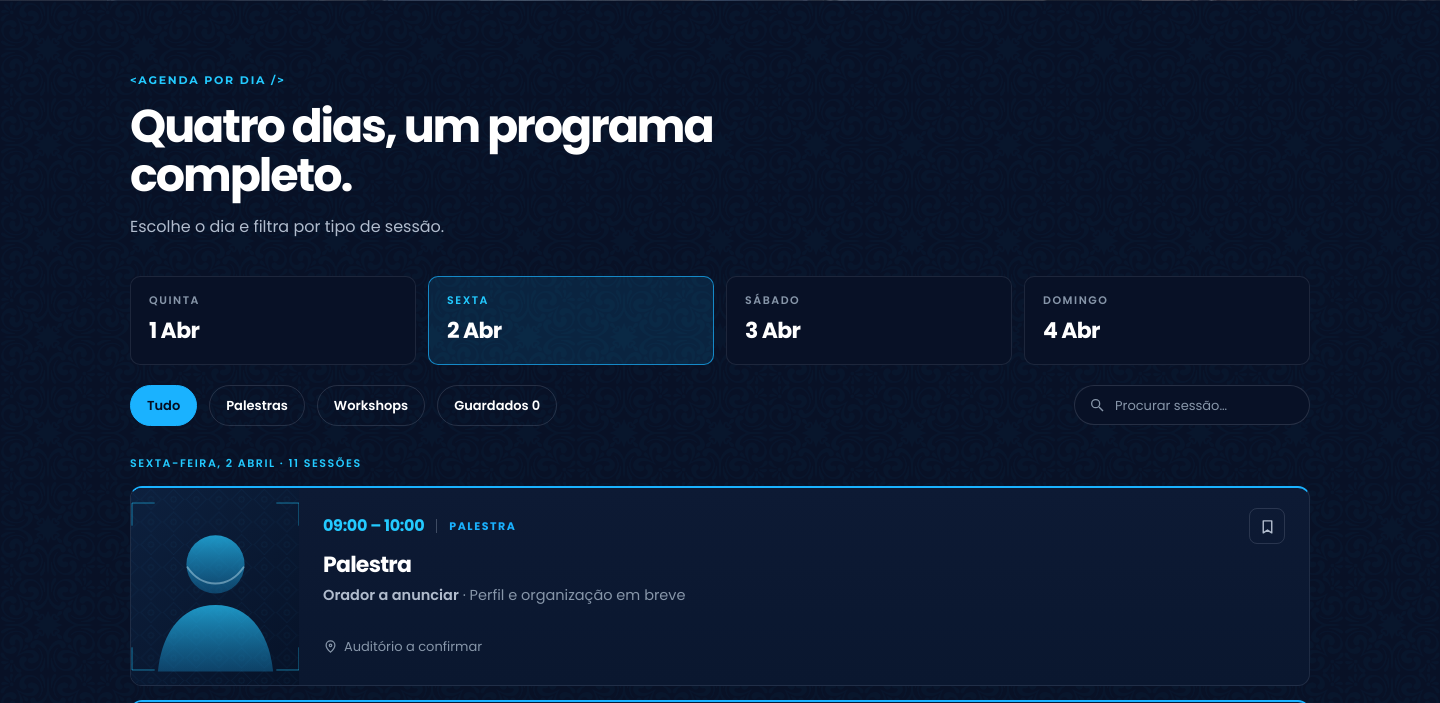
Test: Agenda: filtros e pesquisa › a linha de resultados usa o singular com uma sessão e o plural nas outras
(page scrolled)
Type "almoco" into the search field at point(1205, 405), box top-left (1115, 395), bottom-right (1295, 416)
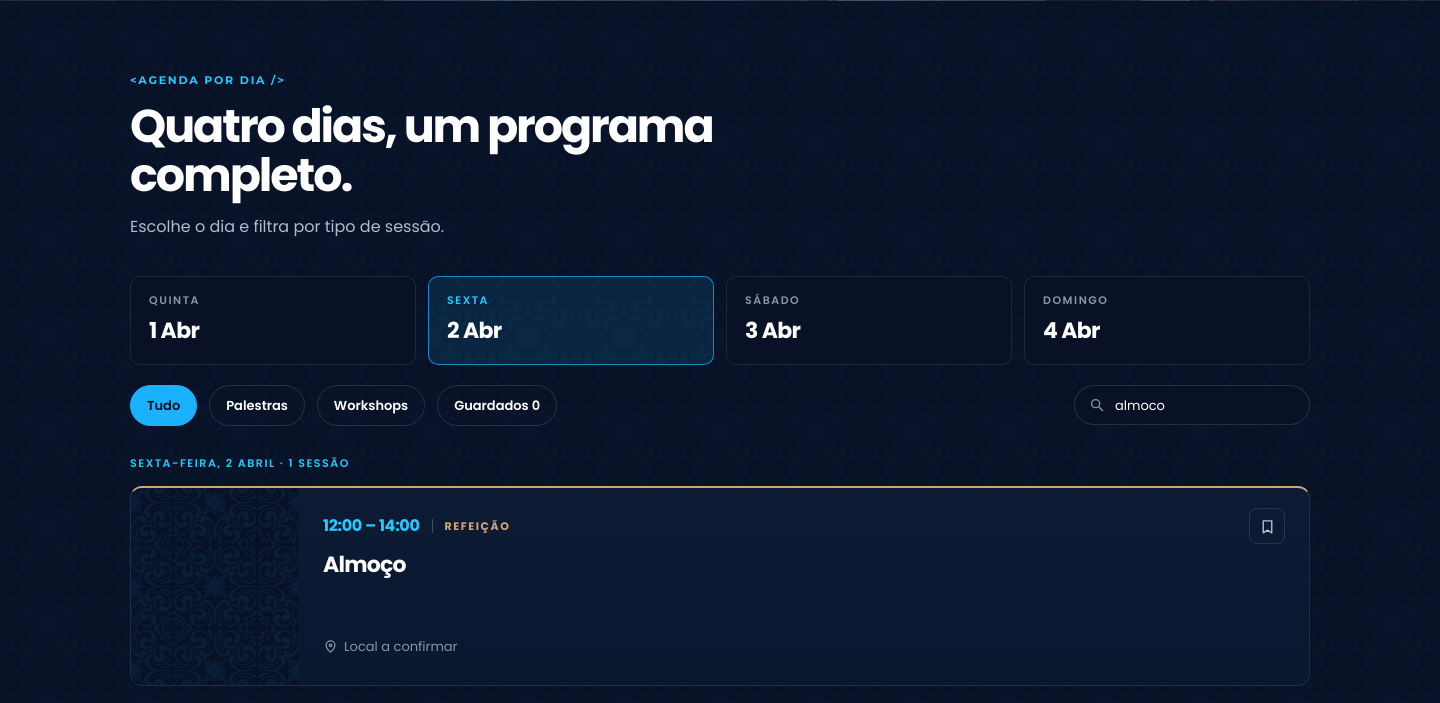
Now the text "Sexta-feira, 2 abril · 1 sessão" is shown, box top-left (130, 455), bottom-right (350, 471)
Replace the text in the search field with "zzz" at point(1205, 405), box top-left (1115, 395), bottom-right (1295, 416)
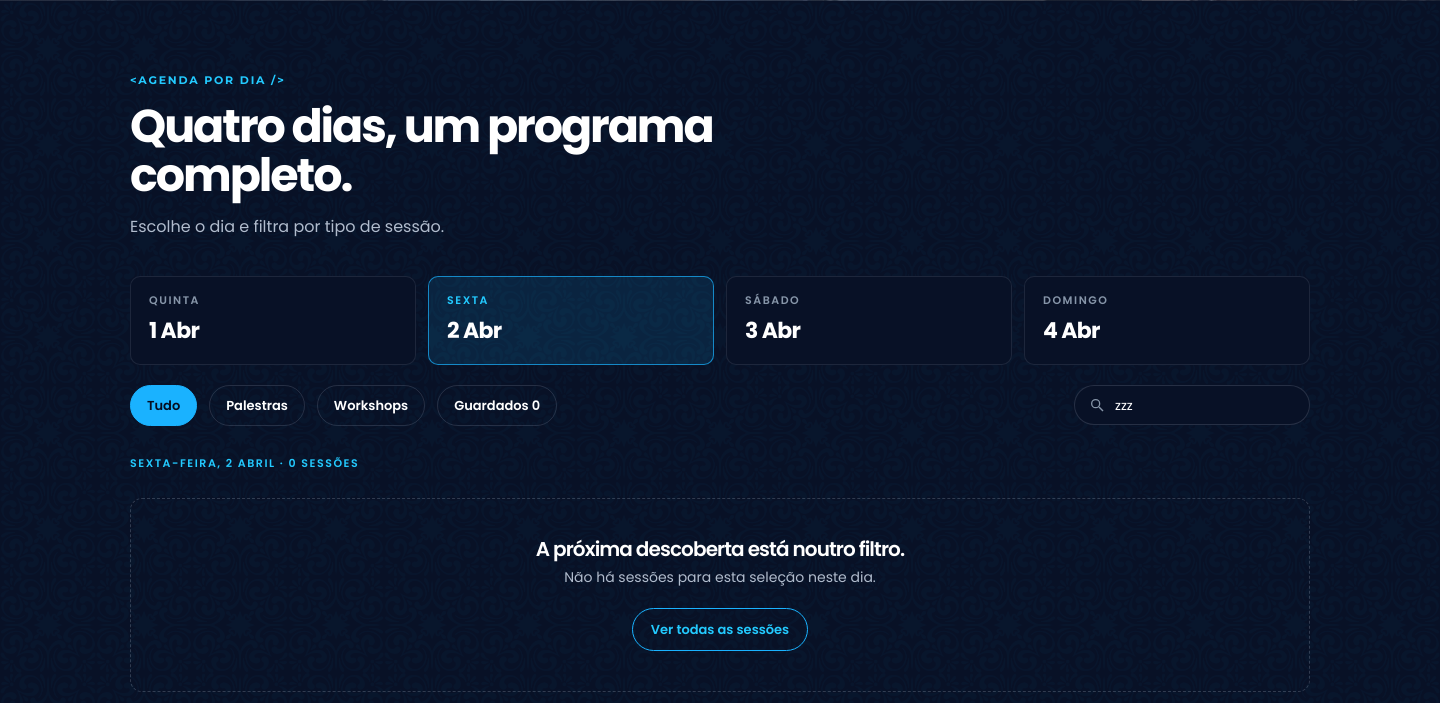
Now the text "Sexta-feira, 2 abril · 0 sessões" is shown, box top-left (130, 455), bottom-right (359, 471)
